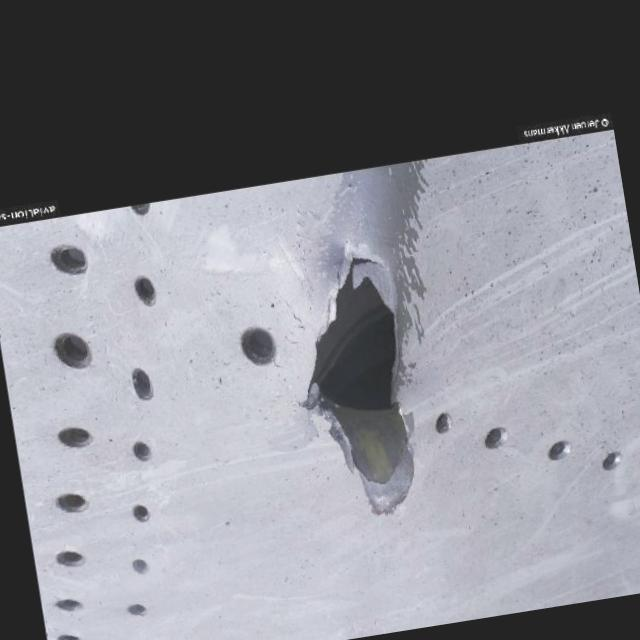crack: (272, 241, 435, 528)
